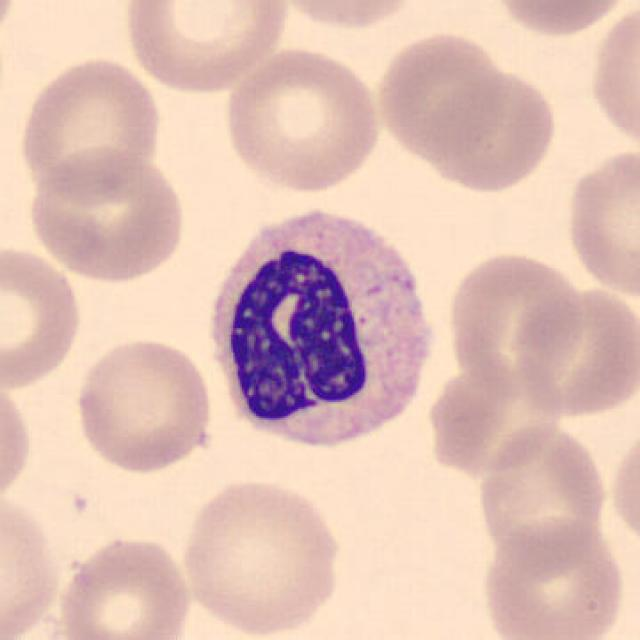Neutrophil: (199, 198, 448, 468)
RBC: (176, 474, 347, 638), (217, 44, 386, 196), (23, 146, 189, 286), (15, 51, 166, 203), (442, 247, 588, 398), (473, 416, 611, 571), (71, 333, 217, 476), (372, 26, 512, 164), (478, 515, 630, 640), (508, 284, 638, 421), (425, 67, 560, 196), (119, 0, 293, 97), (52, 532, 194, 640), (0, 240, 87, 391), (560, 143, 640, 301), (0, 490, 62, 640), (585, 0, 640, 157), (485, 0, 633, 41), (268, 0, 424, 33), (0, 370, 34, 513), (606, 425, 640, 554), (0, 0, 21, 61)
